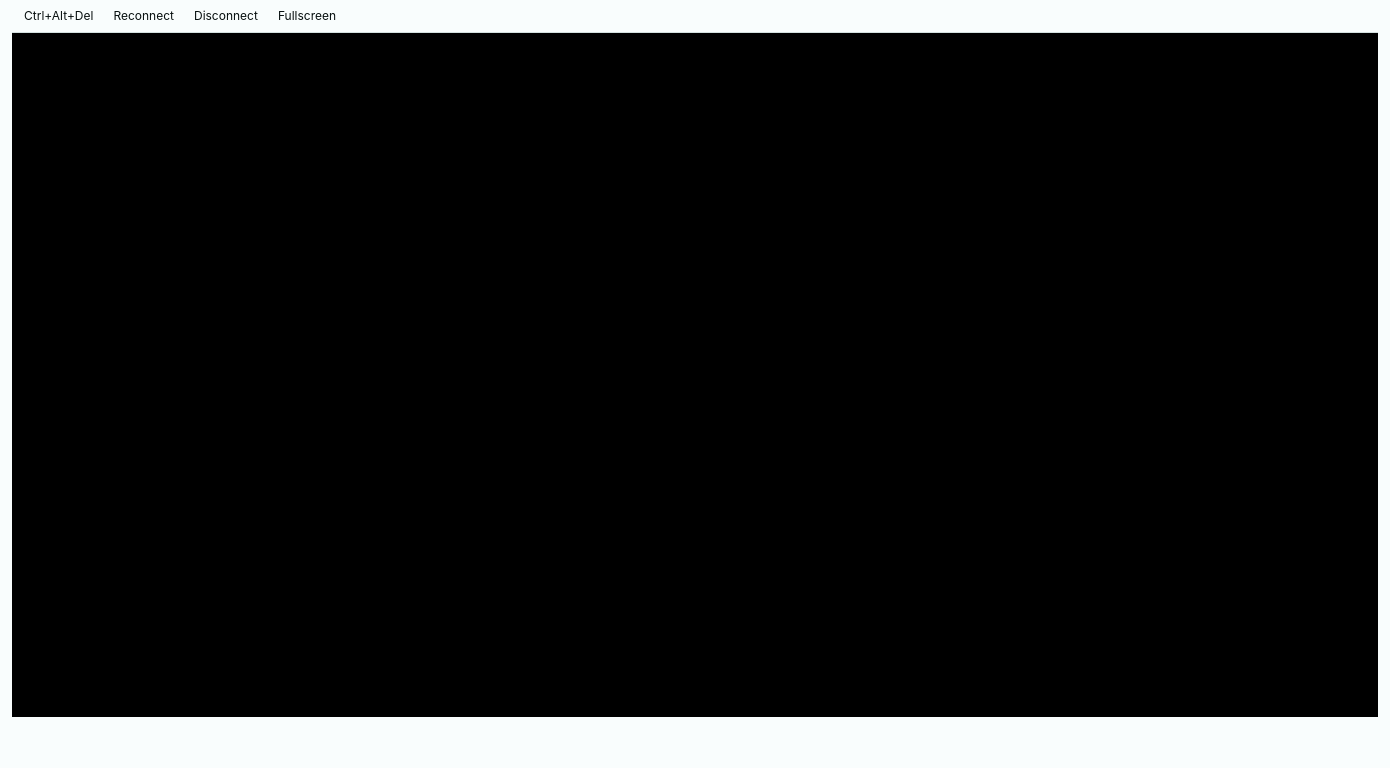
Test: a close that fails when the session is stopped is not left unhandled
Click the button "Disconnect" at (226, 16), box [186,4,266,28]
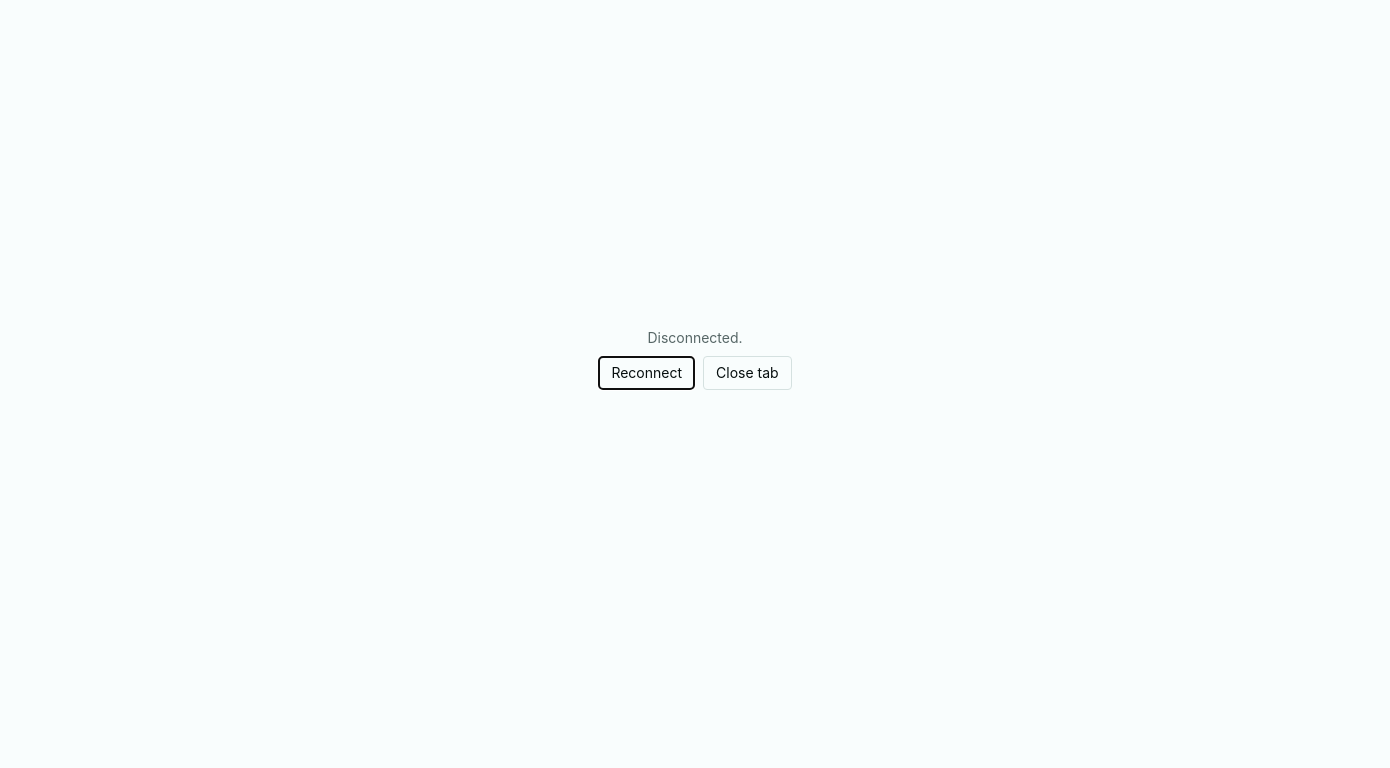
Expected: the text "Disconnected." is shown, [647,328,743,348]
